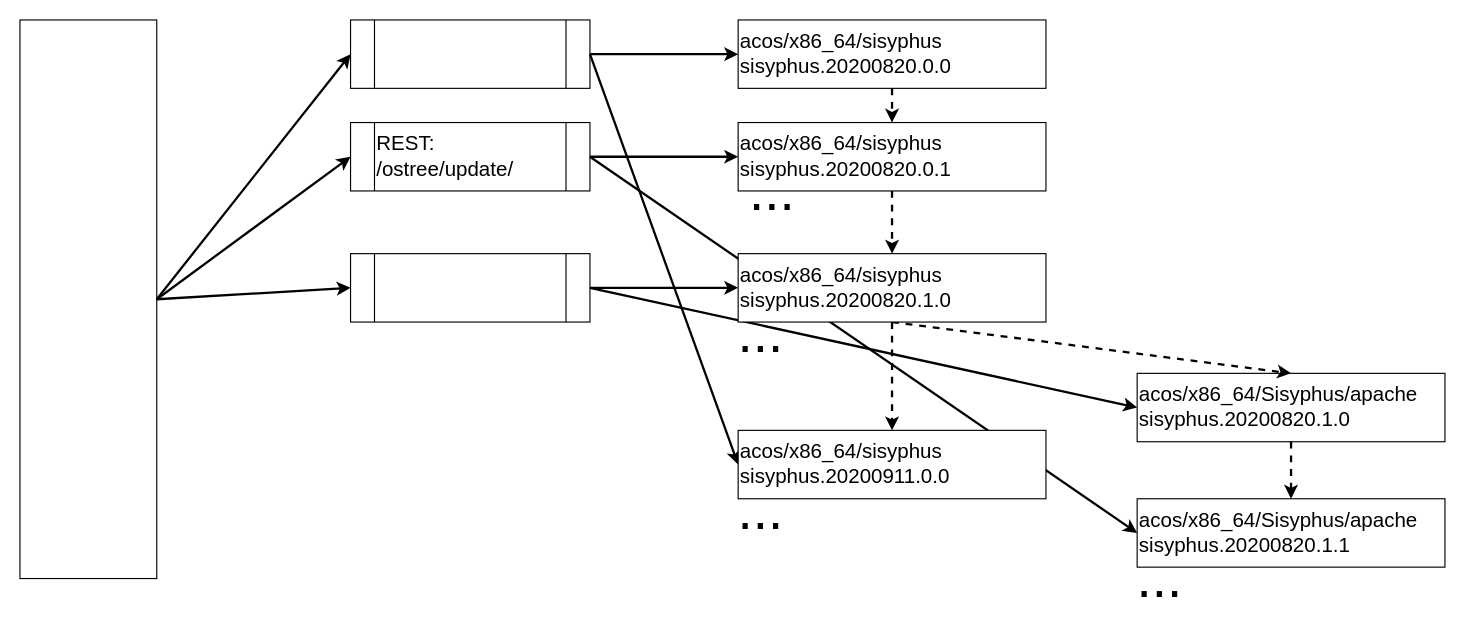
This 1465x632 diagram has some shape labels left out. The shapes that lost their labels are listed below. From the top down, each one's centre as x and y in pixels, then its label:
At pixel 469 53: "CLI: mkimage-profilles".
At pixel 88 299: "Sisyphus".
At pixel 469 287: "REST: /ostree/install/".
